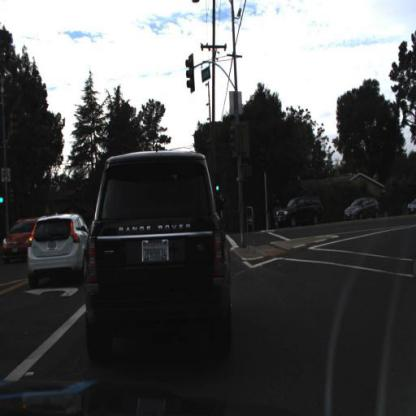car: (83, 147, 232, 359), (24, 208, 94, 286), (2, 215, 49, 266), (276, 192, 325, 230), (344, 195, 383, 222), (408, 195, 416, 216)
trafficLight-Green: (214, 171, 223, 196)
